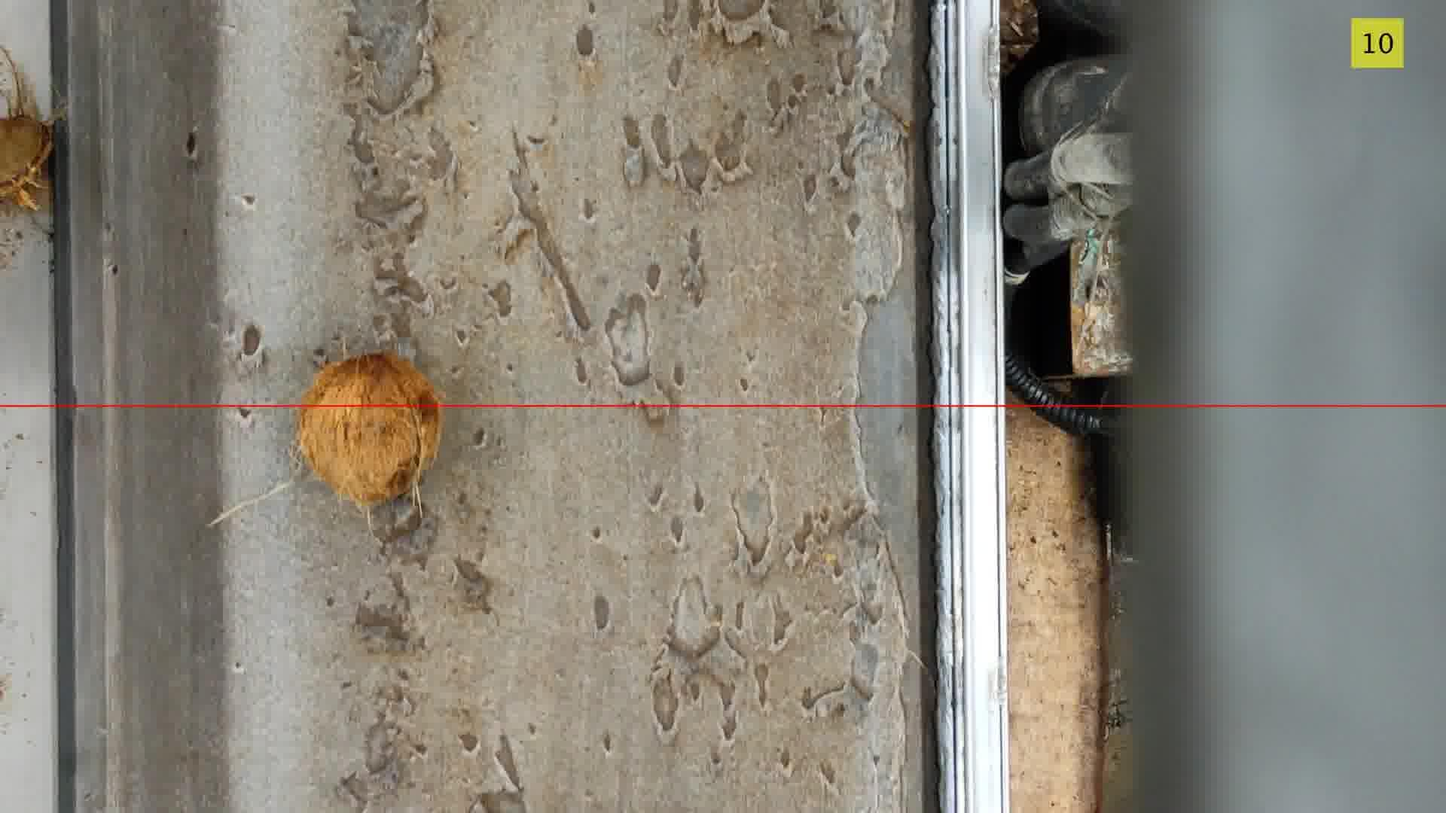Coconut: (295, 353, 444, 520), (0, 47, 53, 210)
